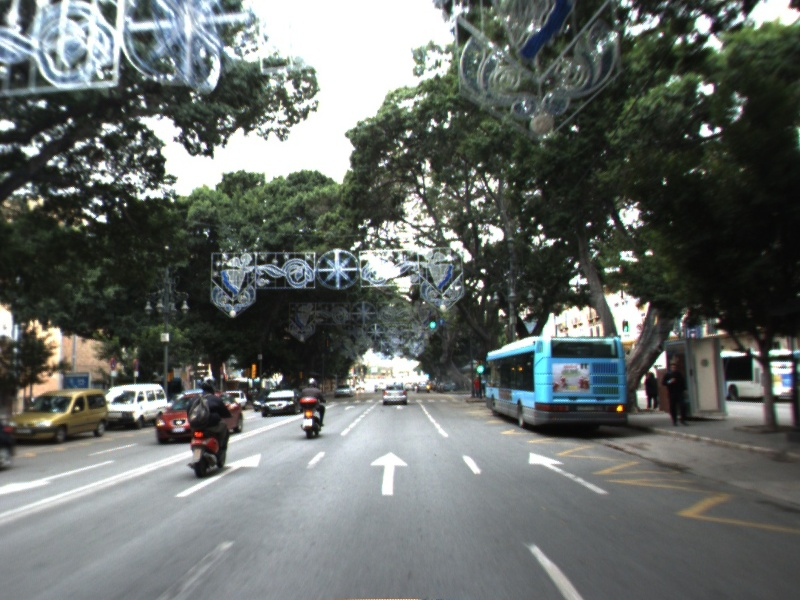STRAIGHT: (173, 451, 263, 499), (527, 450, 612, 497), (367, 450, 410, 497)
